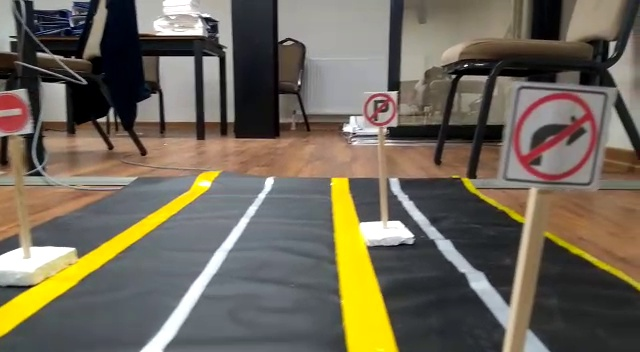girisi_olmayan_yol: (1, 91, 30, 133)
park_yapilmaz: (364, 94, 397, 129)
saga_donulmez: (510, 85, 597, 183)
